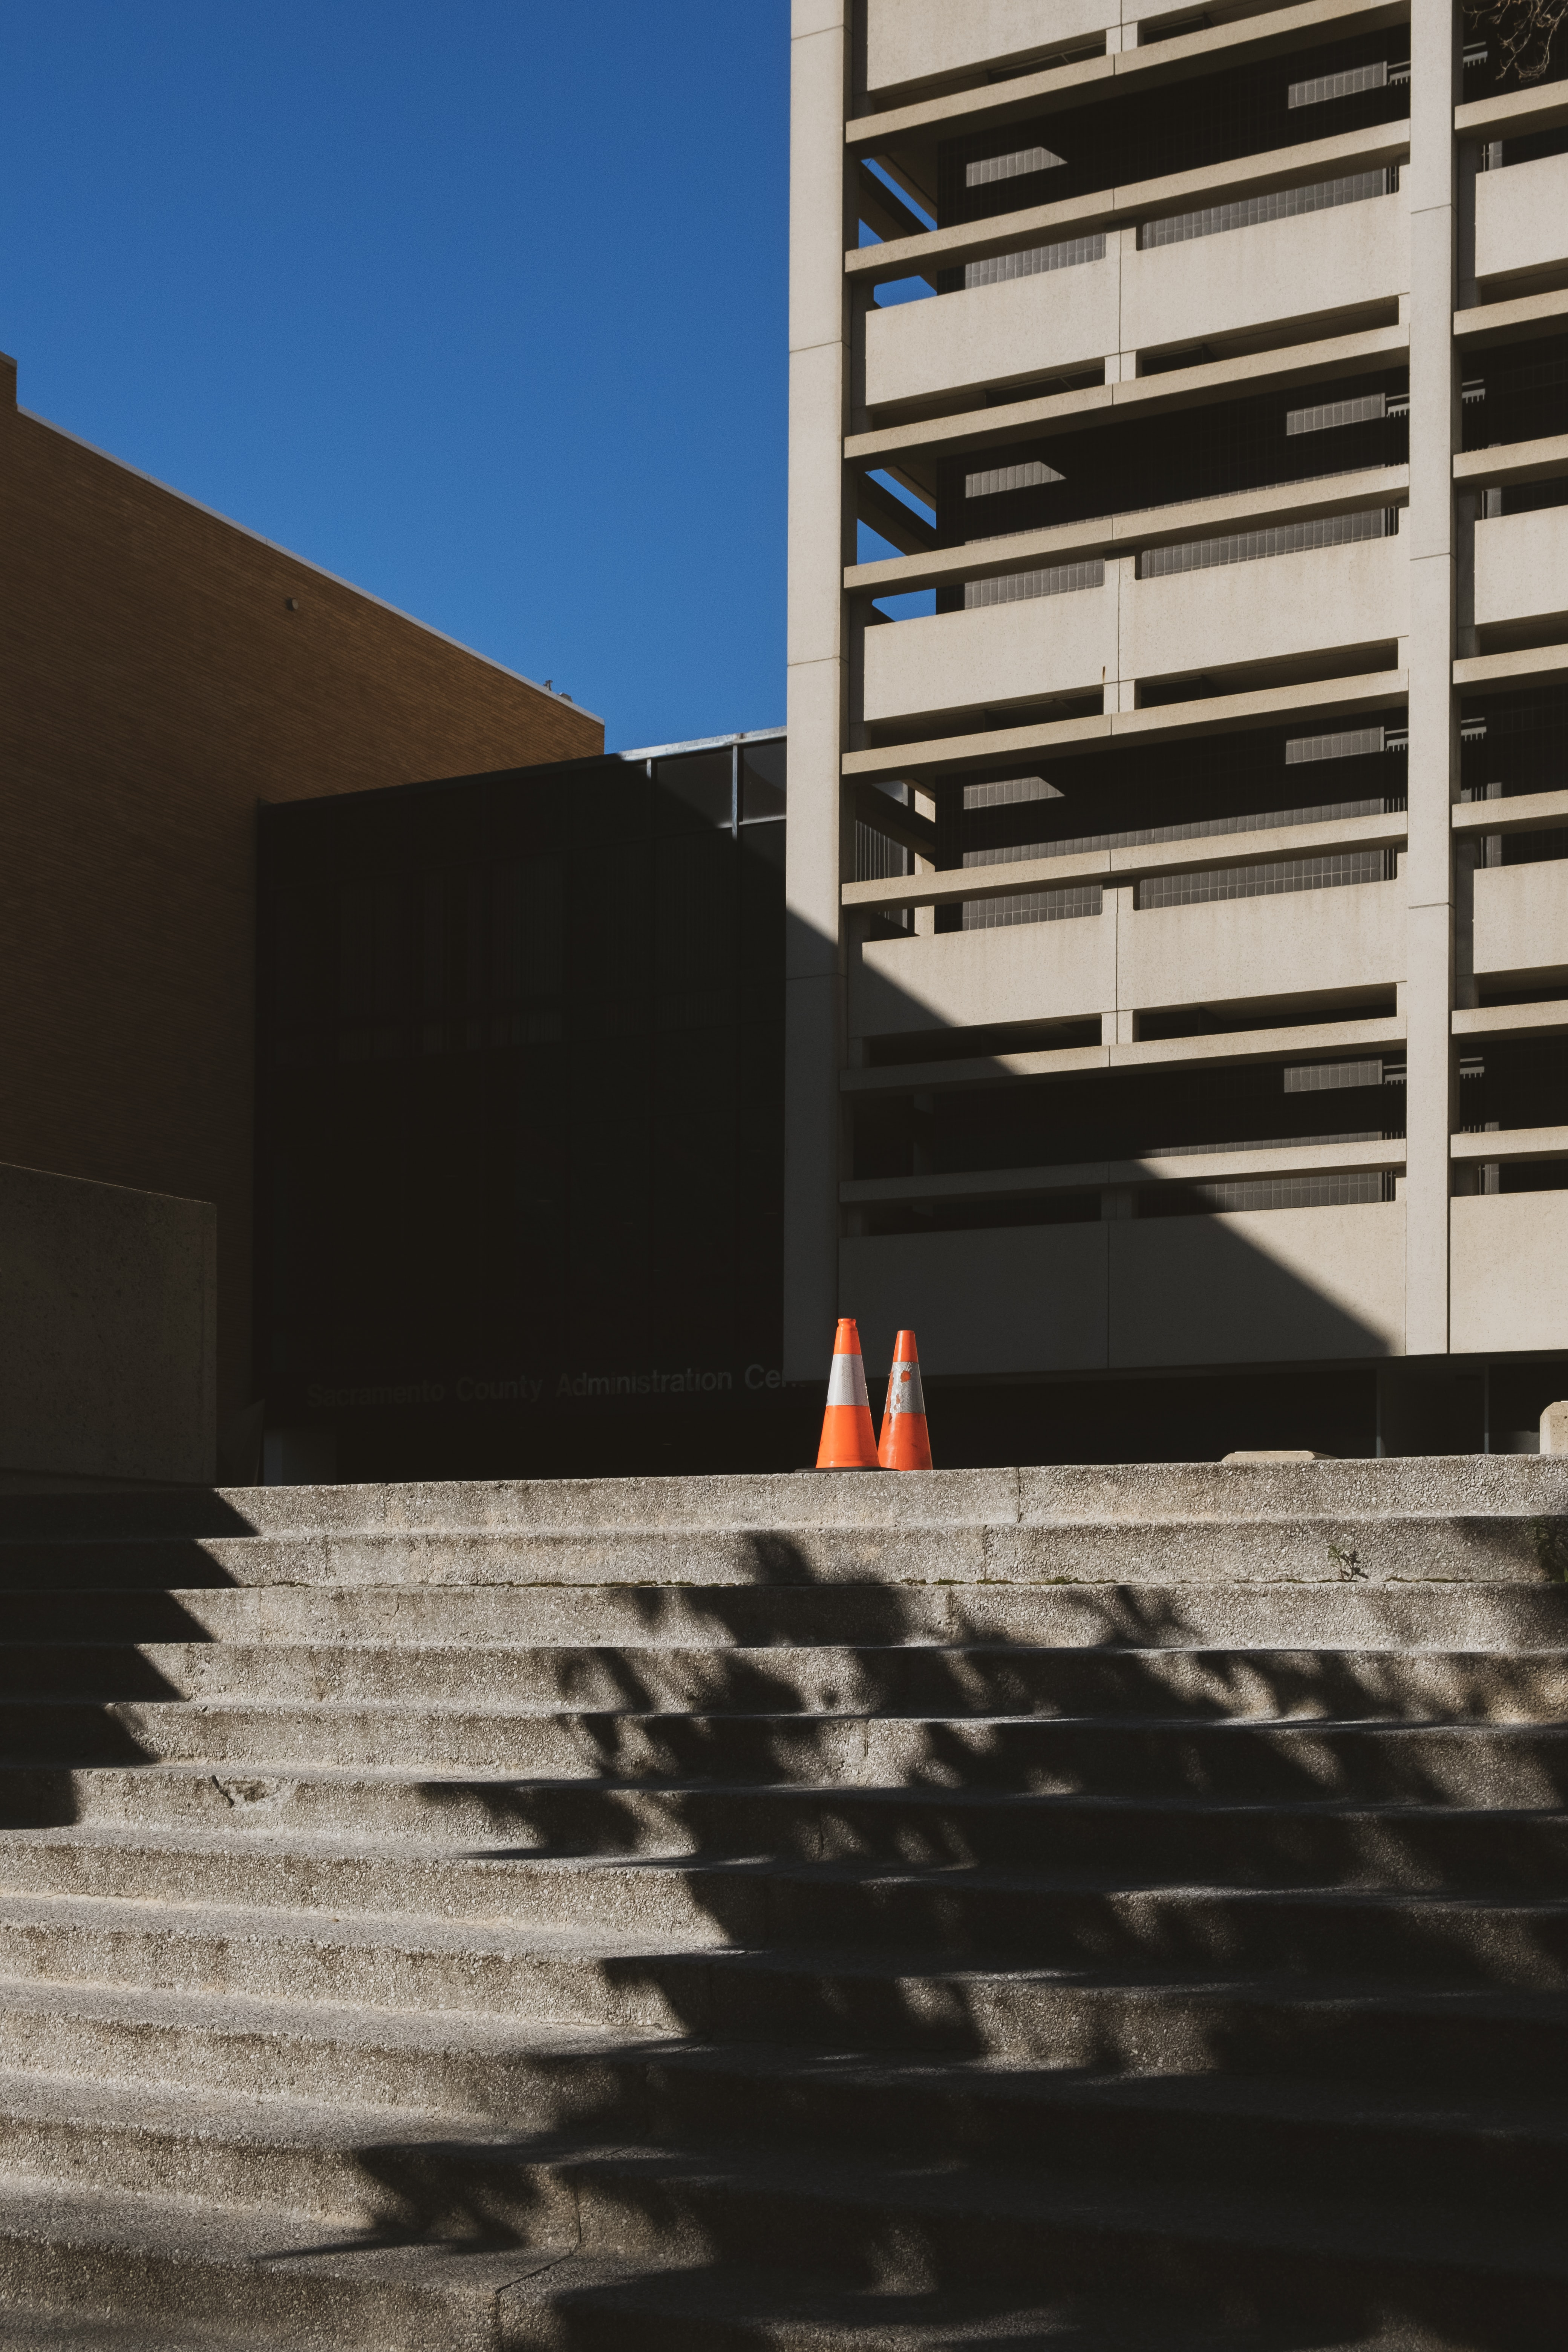upstairs: (157, 1517, 1568, 2352)
